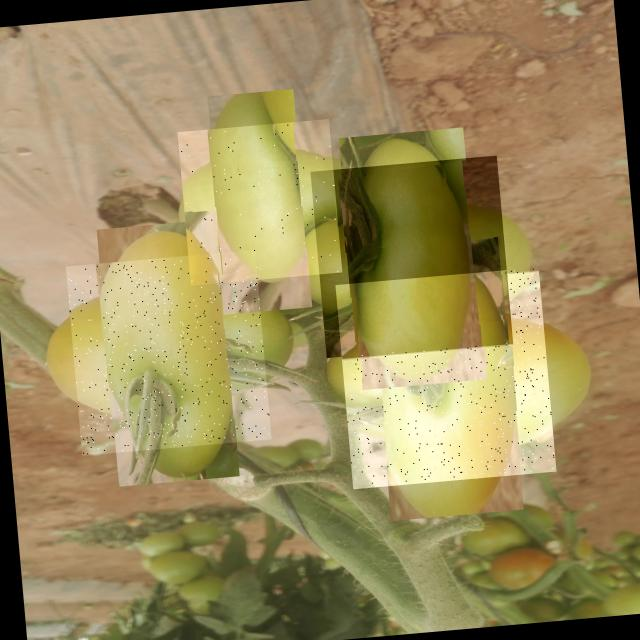Unripe Tomato: (335, 267, 556, 488), (65, 250, 271, 456), (310, 155, 513, 358), (177, 118, 342, 286)
